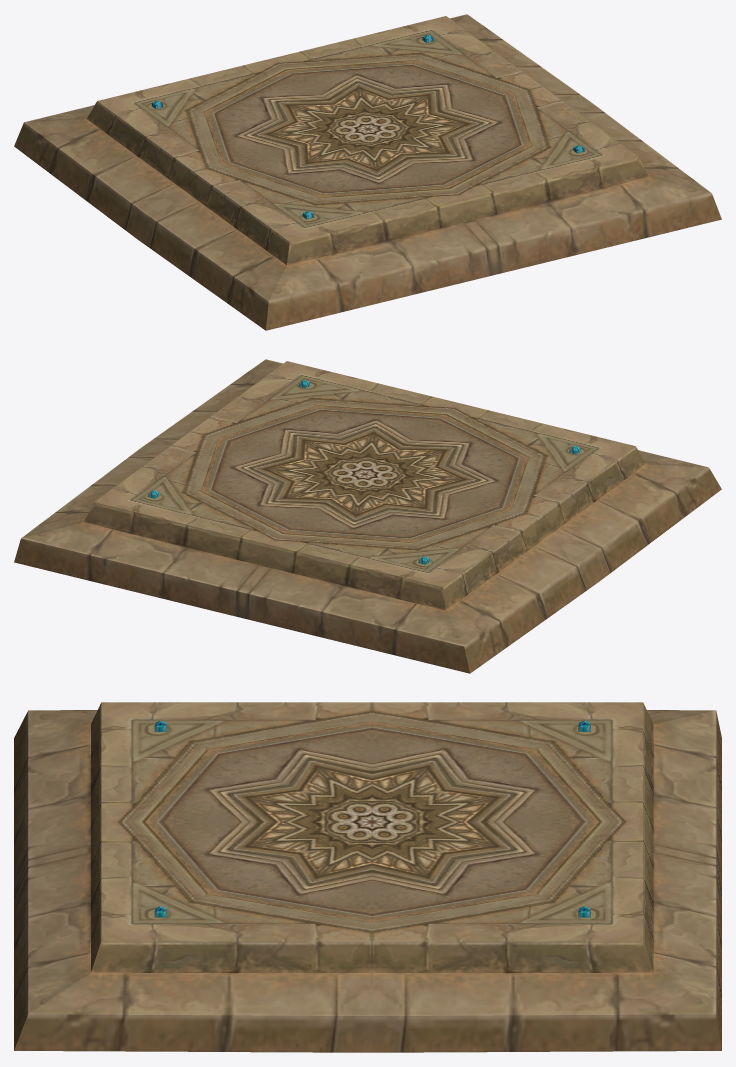
Rendered from lv7_wujian_4.FBX.
3 renders of one model, top to bottom at view 1: azimuth 30°, elevation 25°; view 2: azimuth 150°, elevation 25°; view 3: azimuth 270°, elevation 25°, orthographic. The views are drawn at different scales.
Visible parts, largest first — view 1: lv7_wujian_4; view 2: lv7_wujian_4; view 3: lv7_wujian_4.
Boxes of the visible parts, x1,y1,x2,y2 form: lv7_wujian_4: (14,14,721,330); lv7_wujian_4: (14,359,721,673); lv7_wujian_4: (14,702,721,1052).
Bounding box in the file's own units: 691 × 84.08 × 653.
